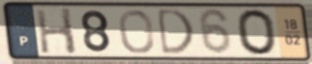6: (197, 7, 237, 58)
8: (80, 9, 113, 54)
D: (156, 7, 196, 57)
H: (33, 6, 79, 56)
O: (234, 7, 280, 57), (117, 8, 157, 56)
